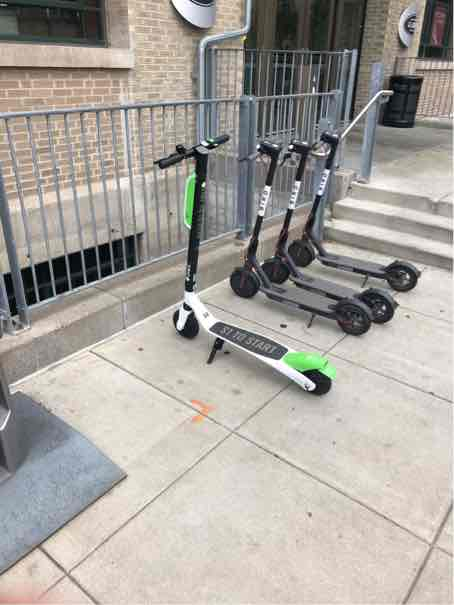scooter: (150, 130, 337, 398)
